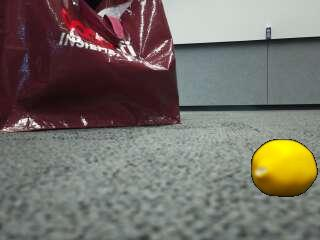lemon: (251, 140, 316, 197)
